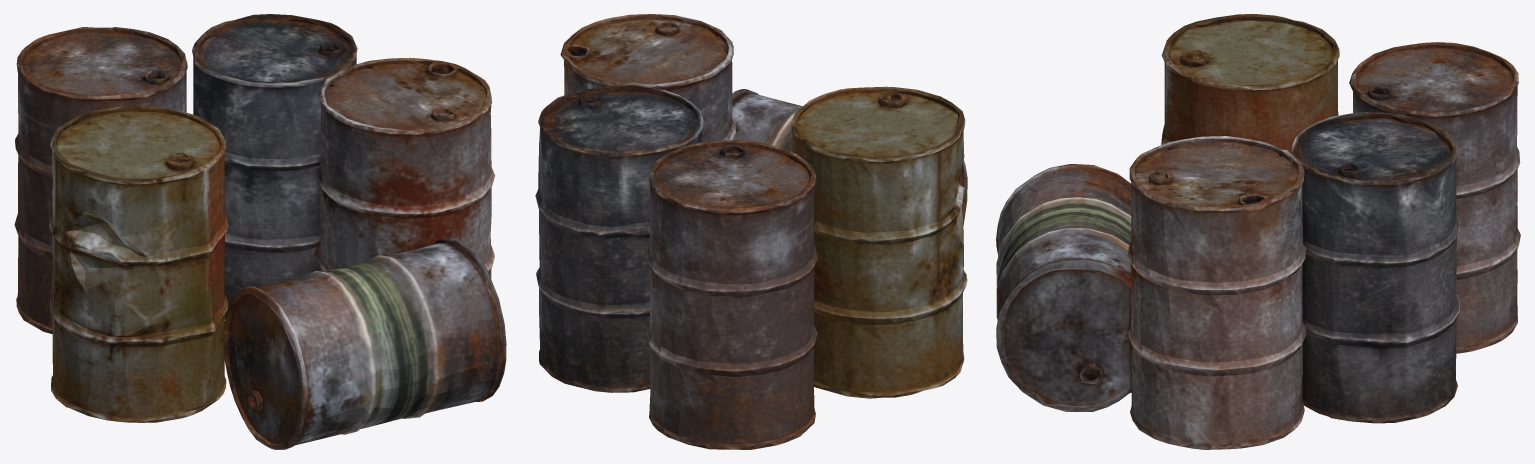
File: barrels.glb
The picture shows the model from 3 angles, left to right: view 1: azimuth 30°, elevation 25°; view 2: azimuth 150°, elevation 25°; view 3: azimuth 270°, elevation 25°; orthographic projection.
Visible parts, largest first — view 1: geometry_0; view 2: geometry_0; view 3: geometry_0.
Boxes of the visible parts, x1=… form: geometry_0: x1=14, y1=14, x2=506, y2=449; geometry_0: x1=535, y1=14, x2=967, y2=449; geometry_0: x1=996, y1=14, x2=1520, y2=449.
Size of the model in its own units: 0.8836 by 0.5233 by 1.
1 material, 1 textured.
